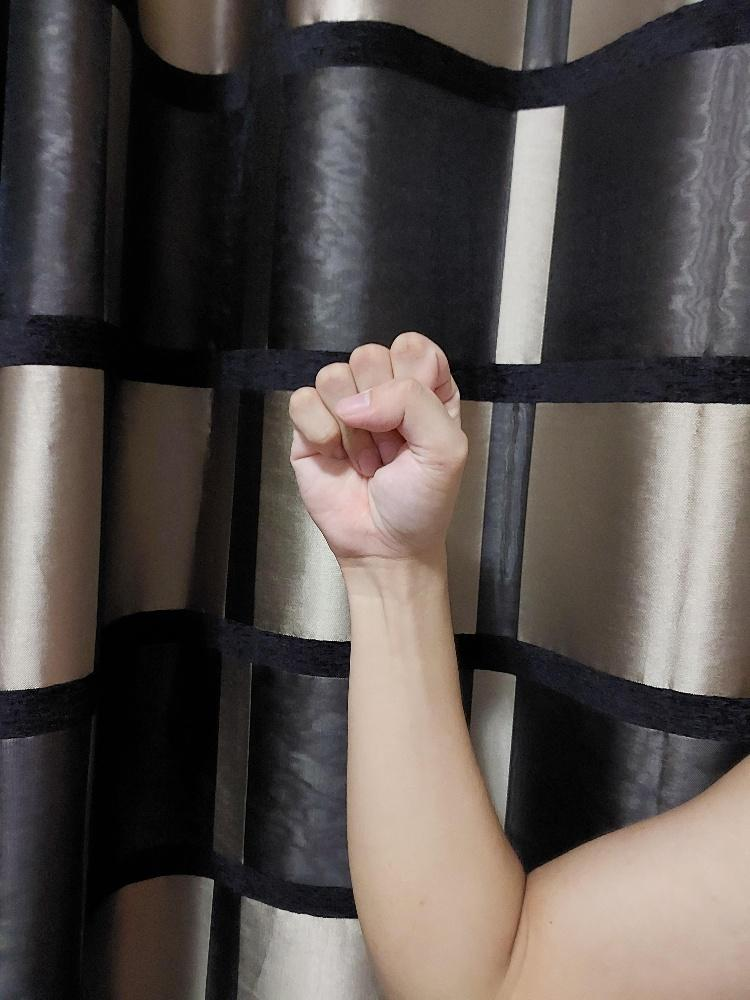s: (287, 328, 470, 558)
